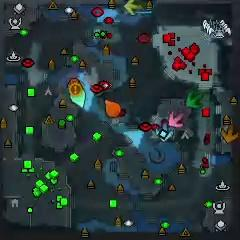p2: (68, 88, 87, 107)
p5: (104, 99, 121, 118)
x1: (168, 111, 184, 128)
x2: (124, 0, 140, 16)
x3: (155, 124, 171, 141)
x4: (186, 92, 203, 108)
x5: (220, 125, 240, 143)
